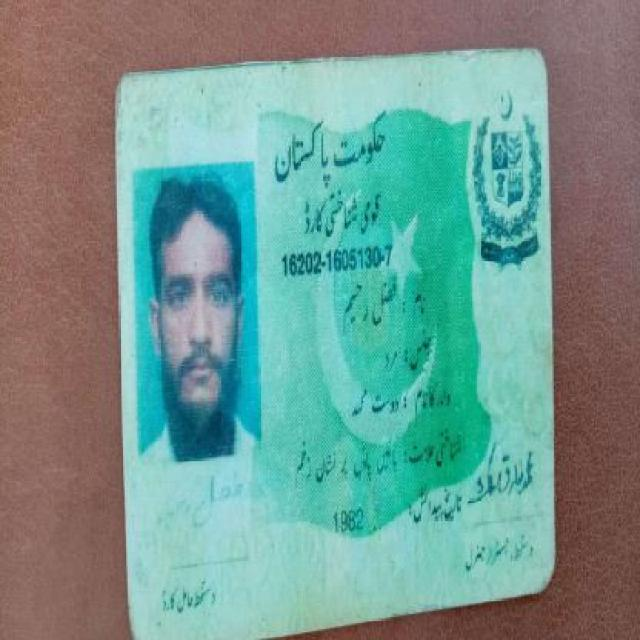Front: (104, 47, 558, 616)
